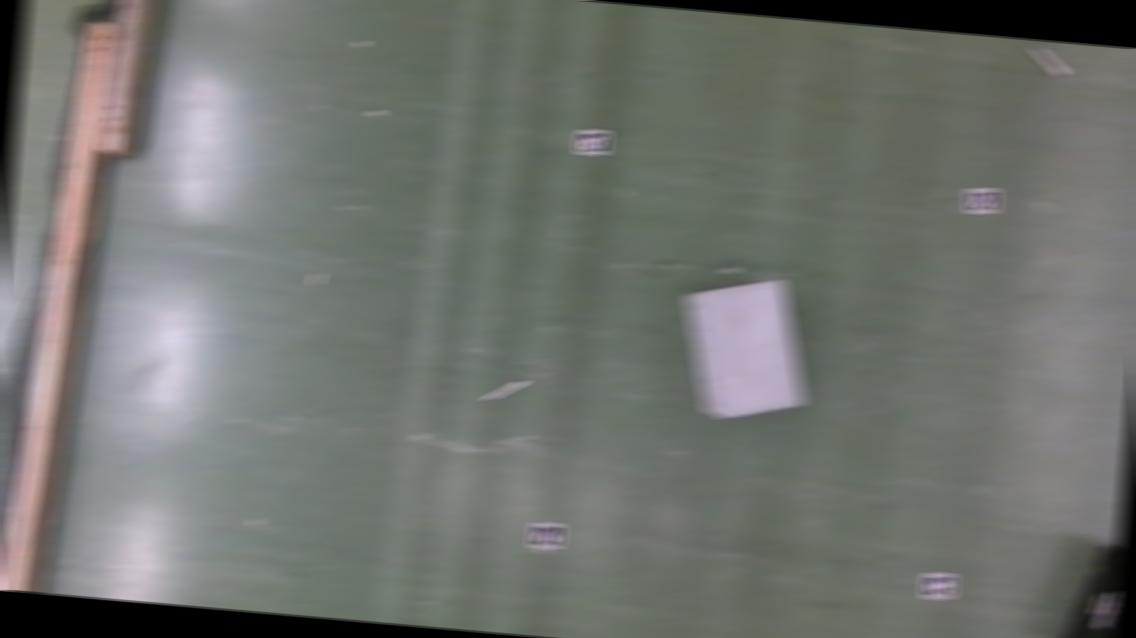probes: (1028, 46, 1067, 78), (483, 376, 524, 405)
rako: (673, 273, 815, 428), (1053, 542, 1121, 638)
